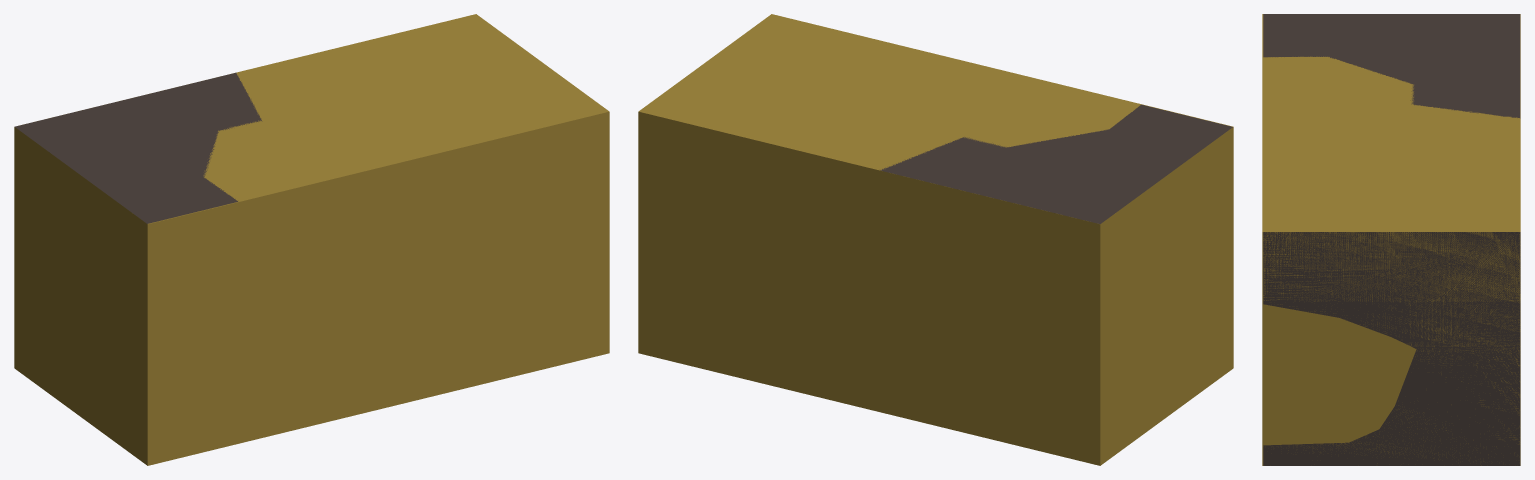
File: room_food.FBX
The picture shows the model from 3 angles, left to right: view 1: azimuth 30°, elevation 25°; view 2: azimuth 150°, elevation 25°; view 3: azimuth 270°, elevation 25°; orthographic projection. The views are drawn at different scales.
Parts seen in each view (by area): view 1: blank_room004, room_FOOD; view 2: blank_room004, room_FOOD; view 3: blank_room004, room_FOOD.
Part boxes in pixels (x1,y1,x2,y2): blank_room004: [14, 14, 609, 465]; room_FOOD: [15, 72, 262, 223]; blank_room004: [638, 14, 1233, 465]; room_FOOD: [880, 104, 1232, 223]; blank_room004: [1262, 14, 1520, 465]; room_FOOD: [1263, 14, 1520, 465].
Bounding box in the file's own units: 236 × 118 × 118.
